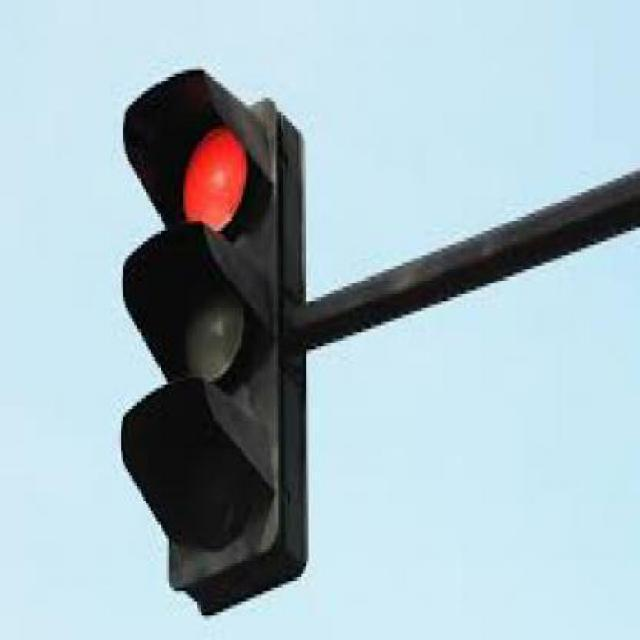traffic light: (118, 67, 311, 616)
